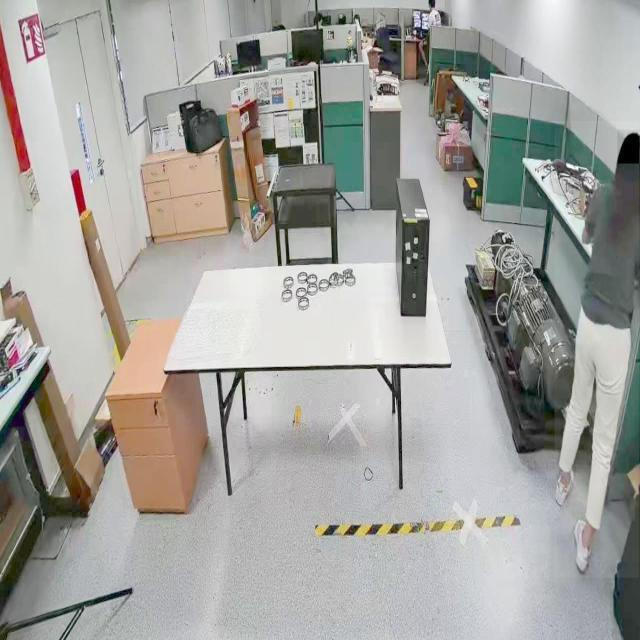head_nohelmet: (618, 130, 640, 164)
person: (554, 121, 640, 579)
shoes: (570, 512, 596, 574), (552, 459, 578, 513)
